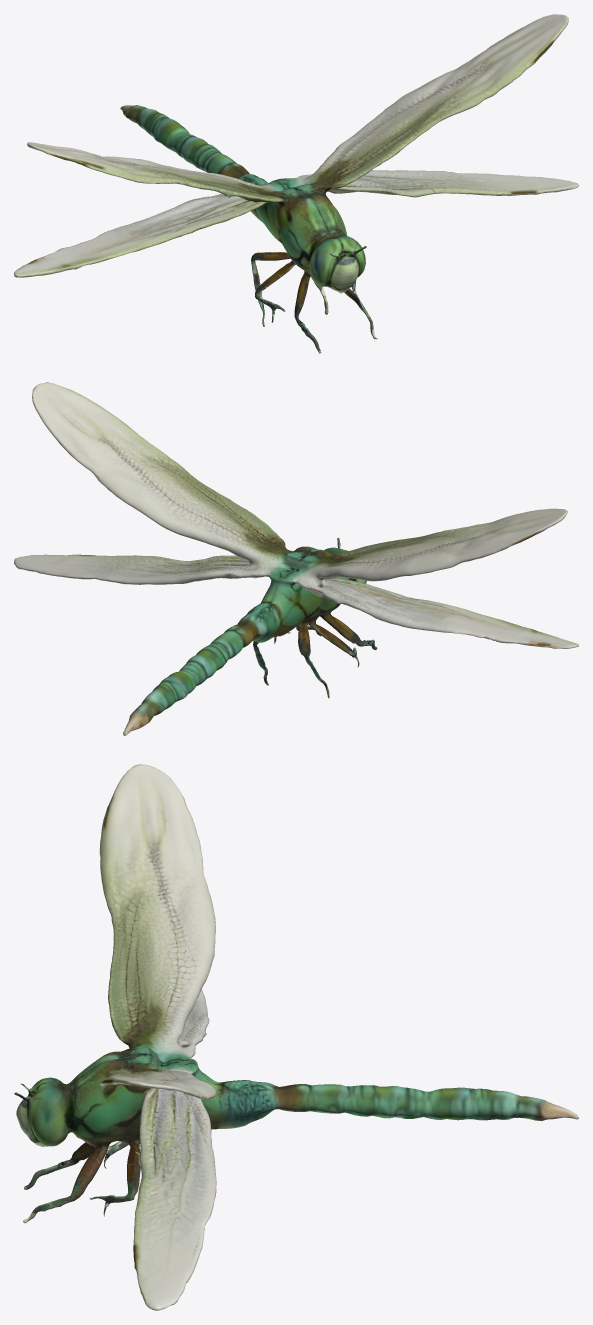
The model's file is Emerald_Dragonfly.glb.
The picture shows the model from 3 angles, top to bottom: view 1: azimuth 30°, elevation 25°; view 2: azimuth 150°, elevation 25°; view 3: azimuth 270°, elevation 25°; orthographic projection. The views are drawn at different scales.
Bounding box in the file's own units: 1.91 × 0.7839 × 1.35.
Materials: 1 (1 with a texture image).
